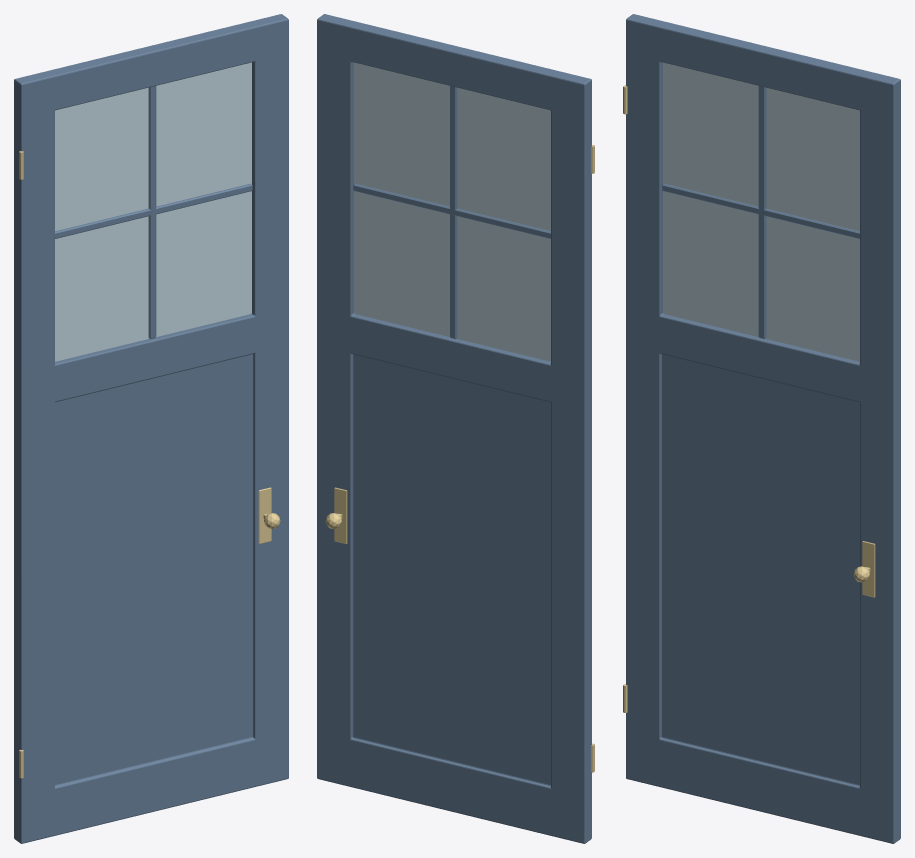
The model's file is door_leaf_entry_b.glb.
The picture shows the model from 3 angles, left to right: view 1: azimuth 30°, elevation 25°; view 2: azimuth 150°, elevation 25°; view 3: azimuth 330°, elevation 25°; orthographic projection.
Parts seen in each view (by area): view 1: door_leaf_entry_b_door_b, door_leaf_entry_b_glass, door_leaf_entry_b_brass; view 2: door_leaf_entry_b_door_b, door_leaf_entry_b_glass, door_leaf_entry_b_brass; view 3: door_leaf_entry_b_door_b, door_leaf_entry_b_glass, door_leaf_entry_b_brass.
Boxes of the visible parts, <box> form: door_leaf_entry_b_door_b: <box>14,14,288,843</box>; door_leaf_entry_b_glass: <box>55,62,251,361</box>; door_leaf_entry_b_brass: <box>19,151,280,778</box>; door_leaf_entry_b_door_b: <box>317,14,591,843</box>; door_leaf_entry_b_glass: <box>354,62,550,361</box>; door_leaf_entry_b_brass: <box>325,145,594,772</box>; door_leaf_entry_b_door_b: <box>626,14,900,843</box>; door_leaf_entry_b_glass: <box>663,62,859,361</box>; door_leaf_entry_b_brass: <box>623,85,875,712</box>.
Bounding box in the file's own units: 1.05 × 2.82 × 0.206.
